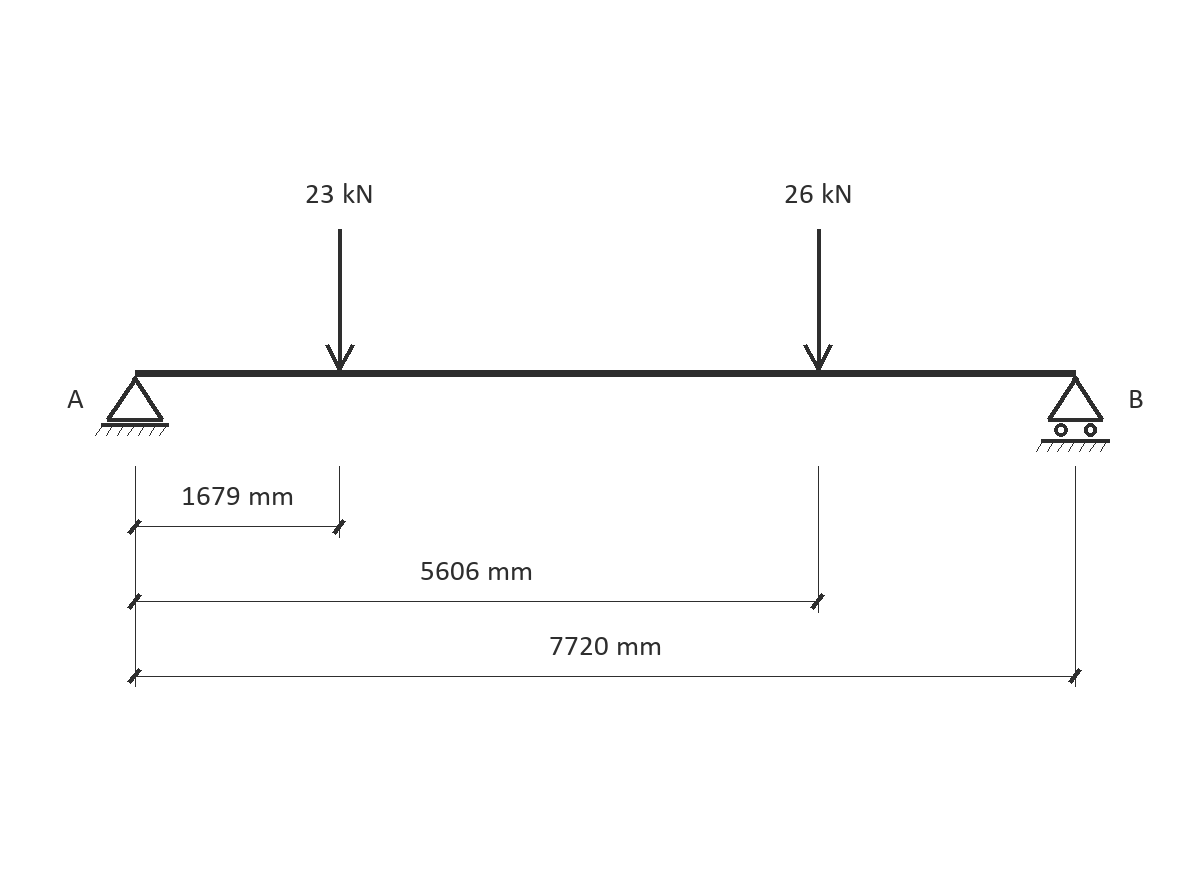pin_support: (95, 376, 169, 436)
point_load: (325, 229, 355, 371), (803, 229, 833, 371)
roller_support: (1036, 376, 1110, 452)
